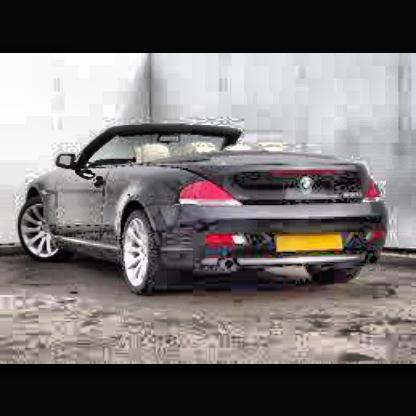BMW 6 Series Convertible 2007: (14, 117, 397, 303)
